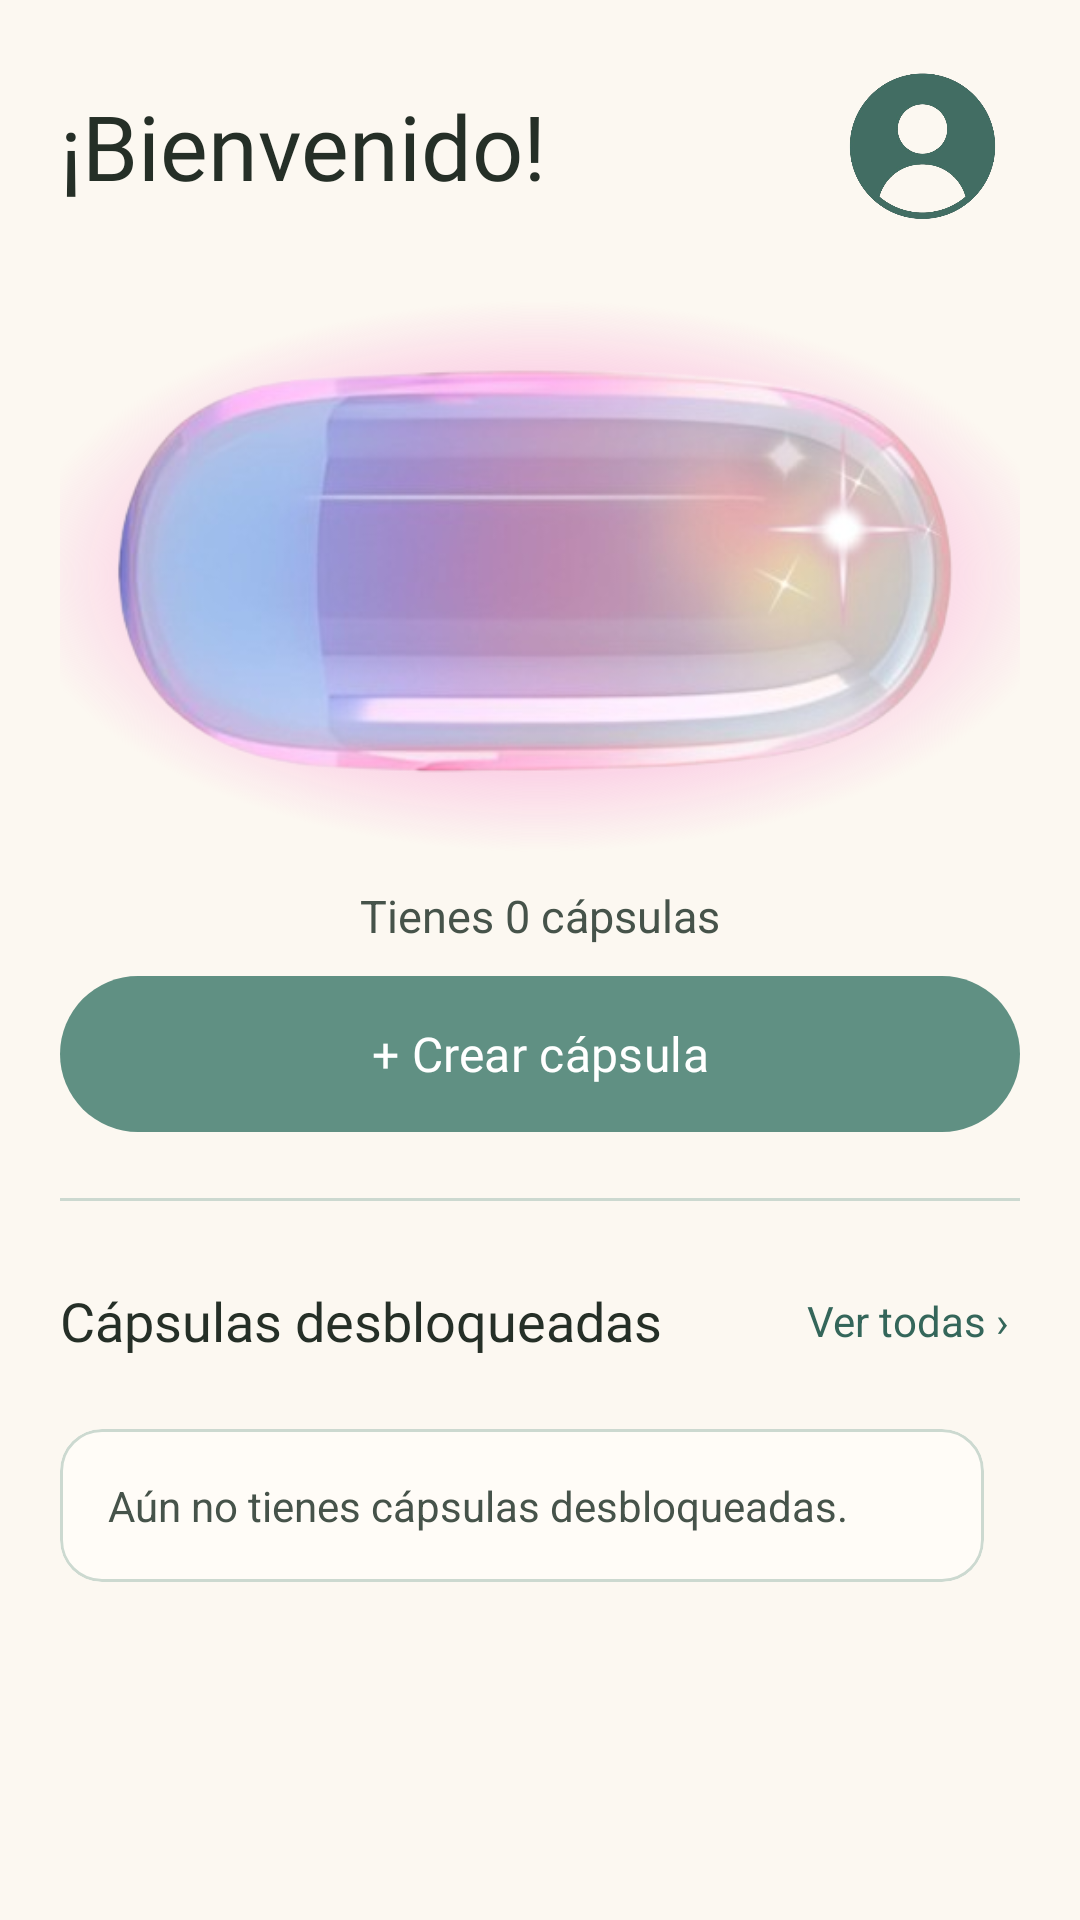

Screen size 1080px×1920px. Icon name, then its box in pixels as (x1, y1, x2, y2):
Abrir perfil: (850, 73, 995, 219)
